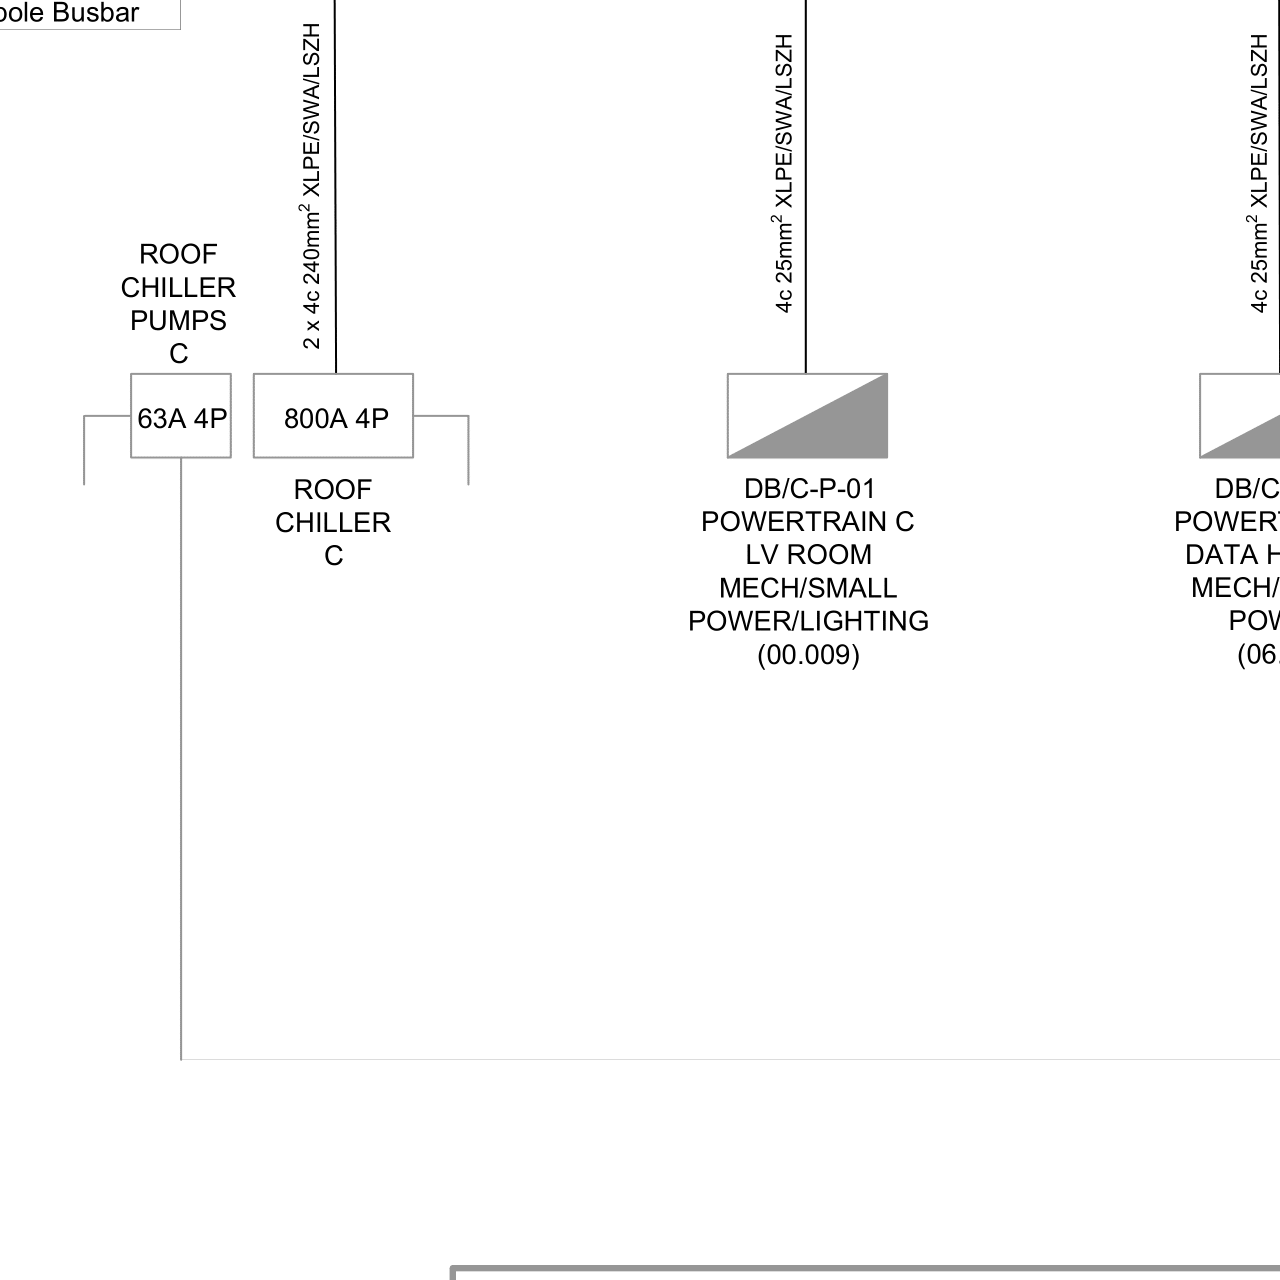Distribution Board: (713, 363, 901, 472)
